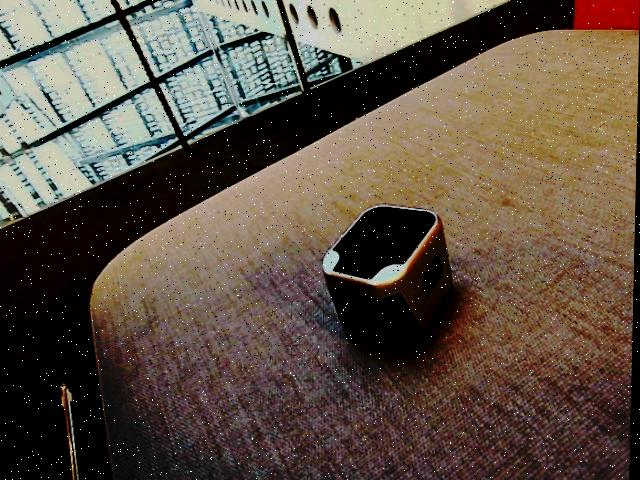adapter: (321, 203, 455, 354)
